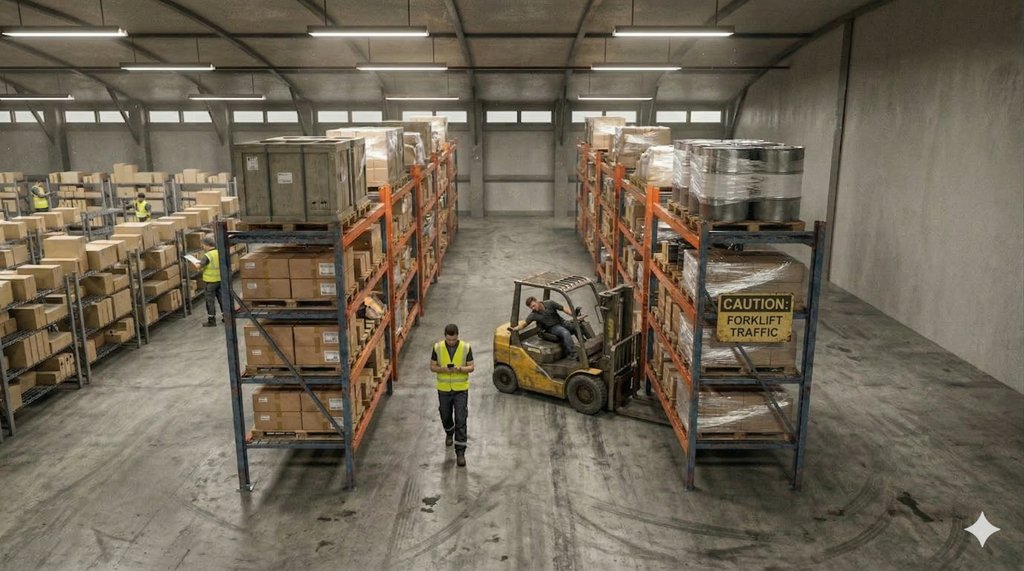forklift: (487, 247, 637, 426)
person: (410, 315, 481, 468), (525, 293, 605, 372), (184, 237, 232, 327), (20, 179, 73, 233), (120, 183, 162, 234)
safety_signage: (713, 285, 791, 348)
safety_vest: (428, 335, 464, 413), (189, 250, 222, 289), (28, 190, 57, 219), (131, 203, 153, 218)
